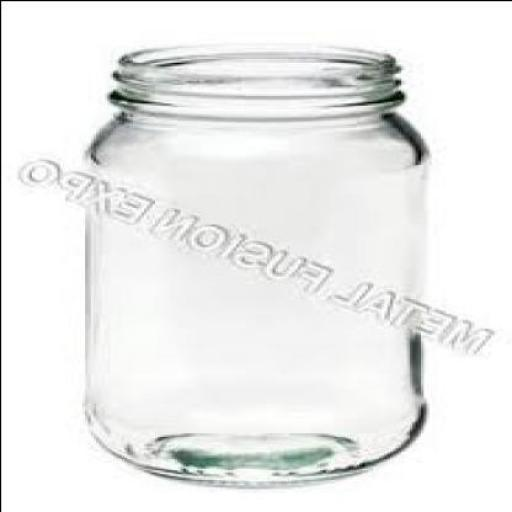glass: (81, 41, 425, 482)
